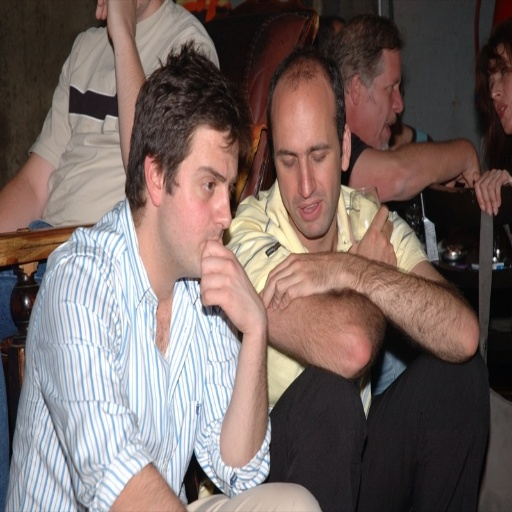hand: (191, 251, 267, 344), (259, 248, 342, 311), (347, 202, 400, 270), (94, 0, 138, 46), (472, 167, 511, 216), (445, 139, 482, 189)
